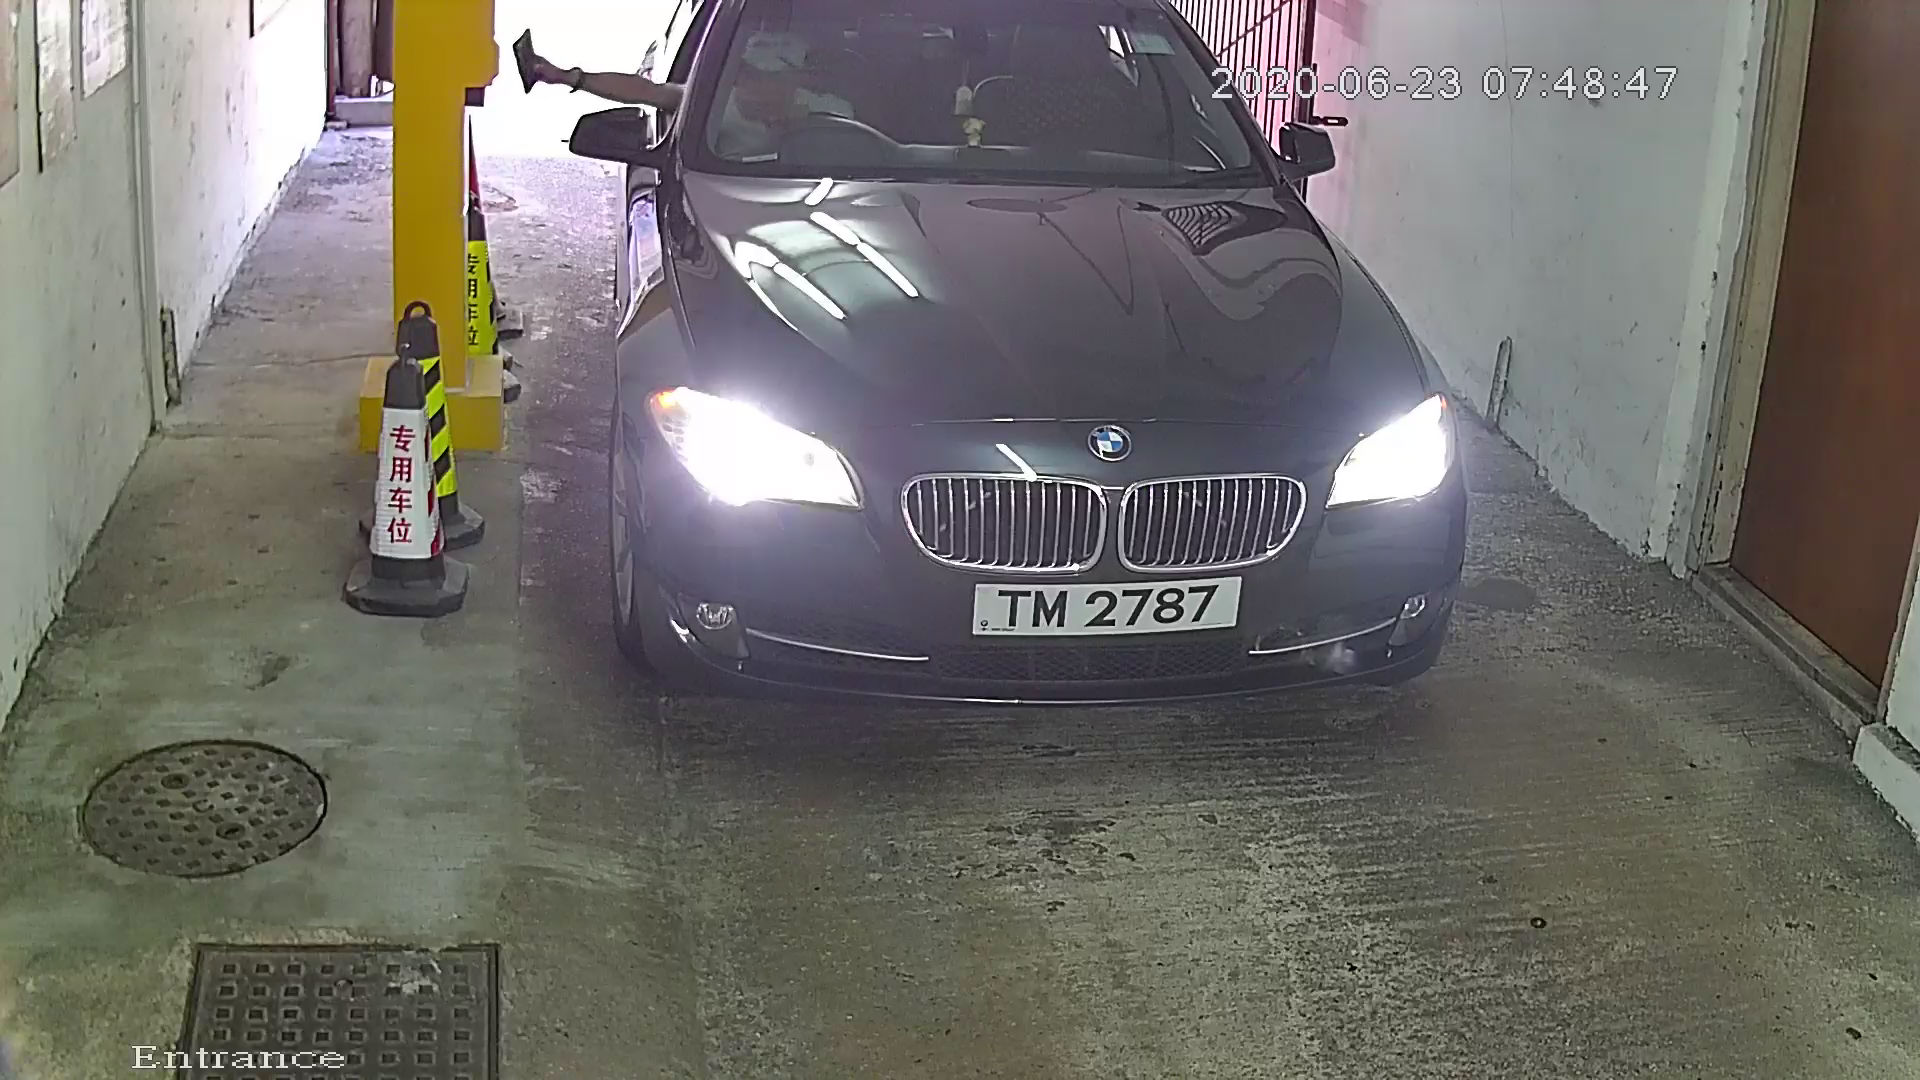privatecar: (510, 3, 1519, 752)
